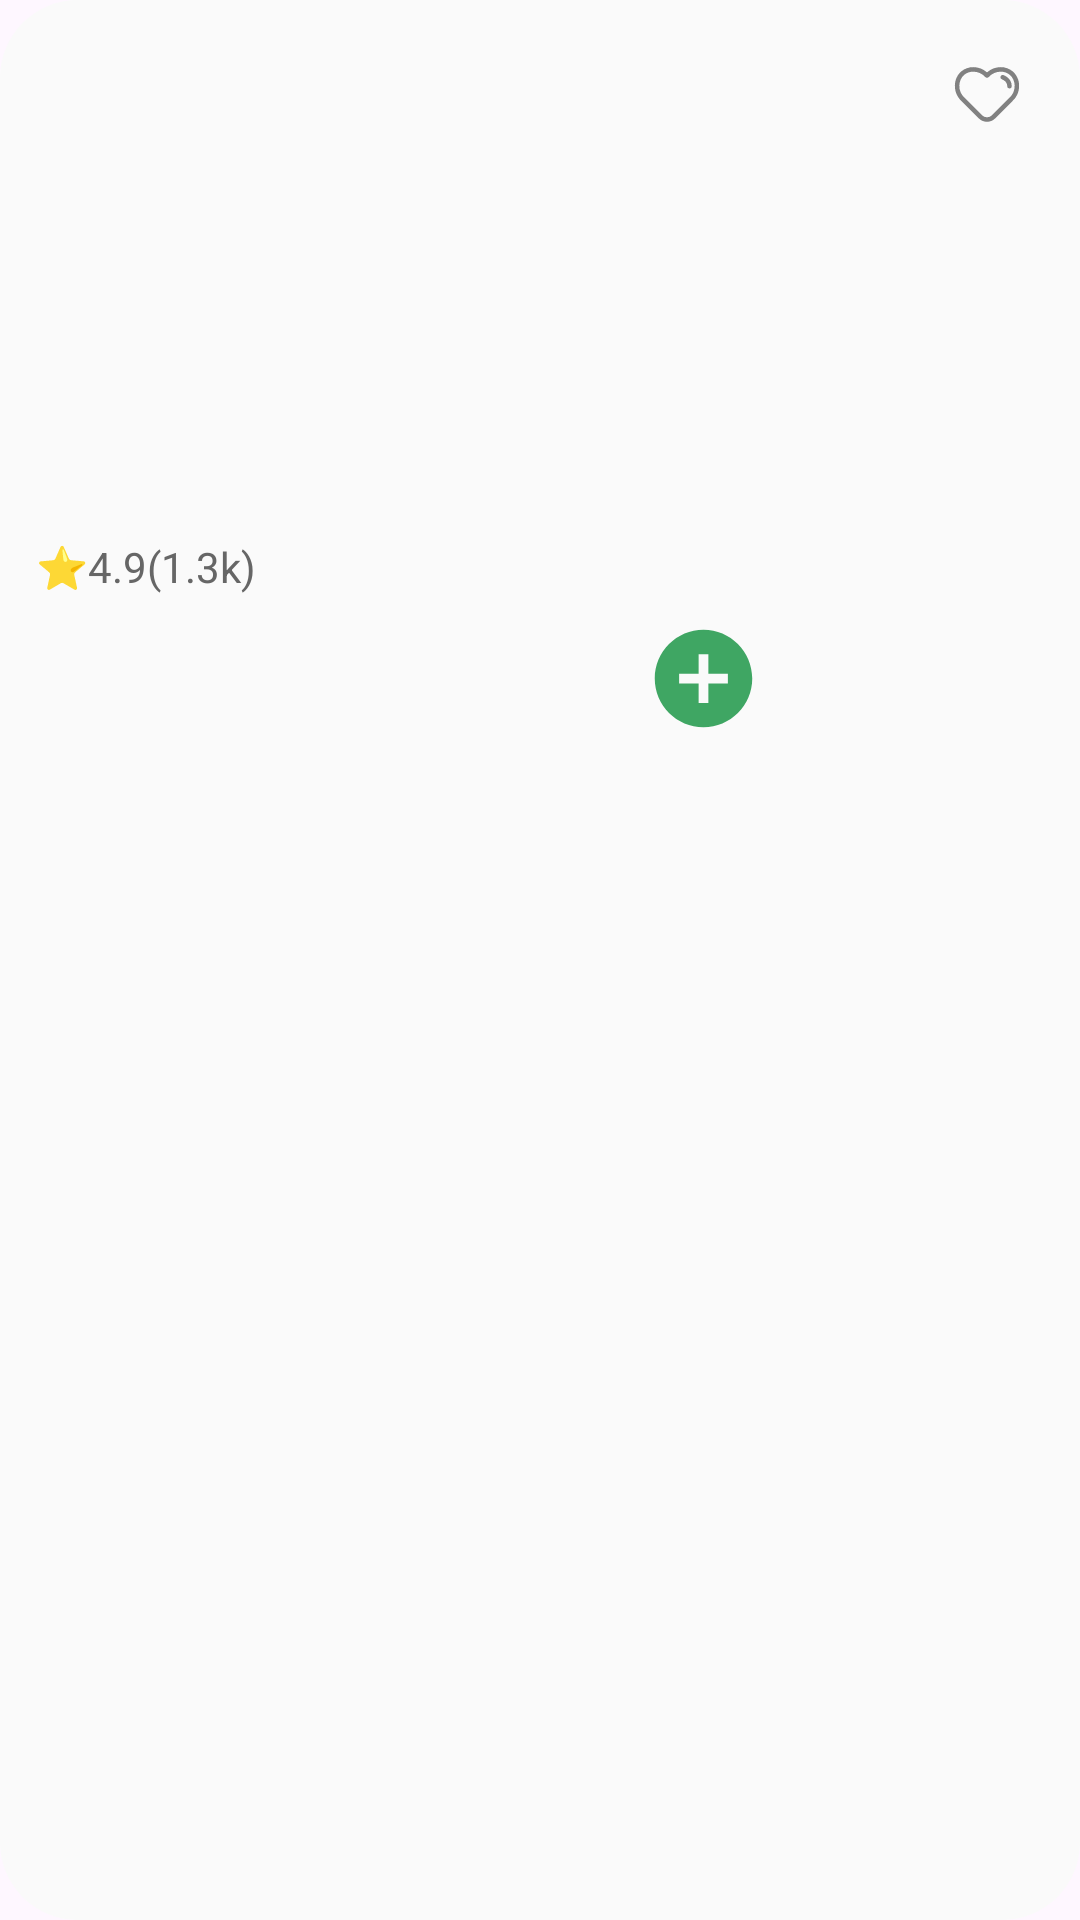

Screen size 1080x1920. Icon name, then its center in pixels as (x=x, y=y):
add circle: (x=703, y=678)
favorite border: (x=987, y=94)
